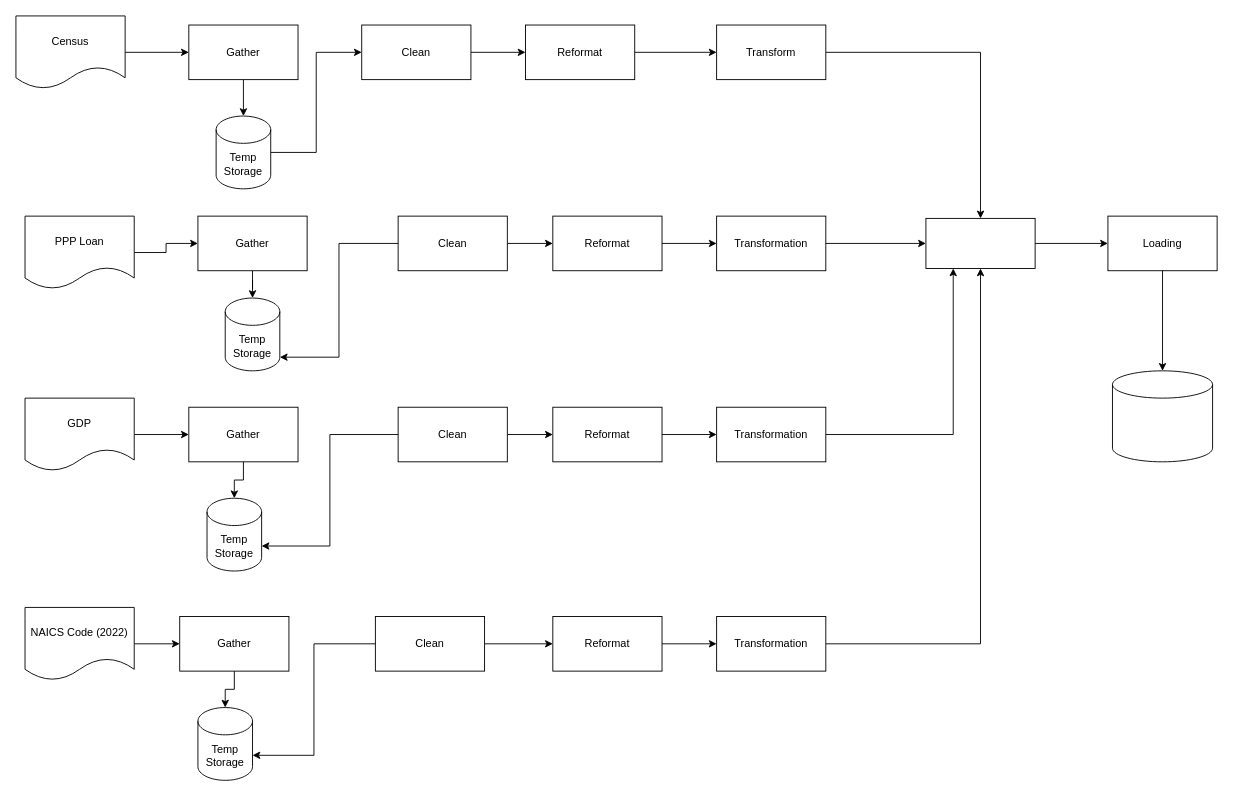
Image size: 1233x796. Some labels were removed from this diagram. Each missing label, with the centre of its shape:
"Consolidation" goes at point 980,242.
"Warehouse" goes at point 1162,416.
